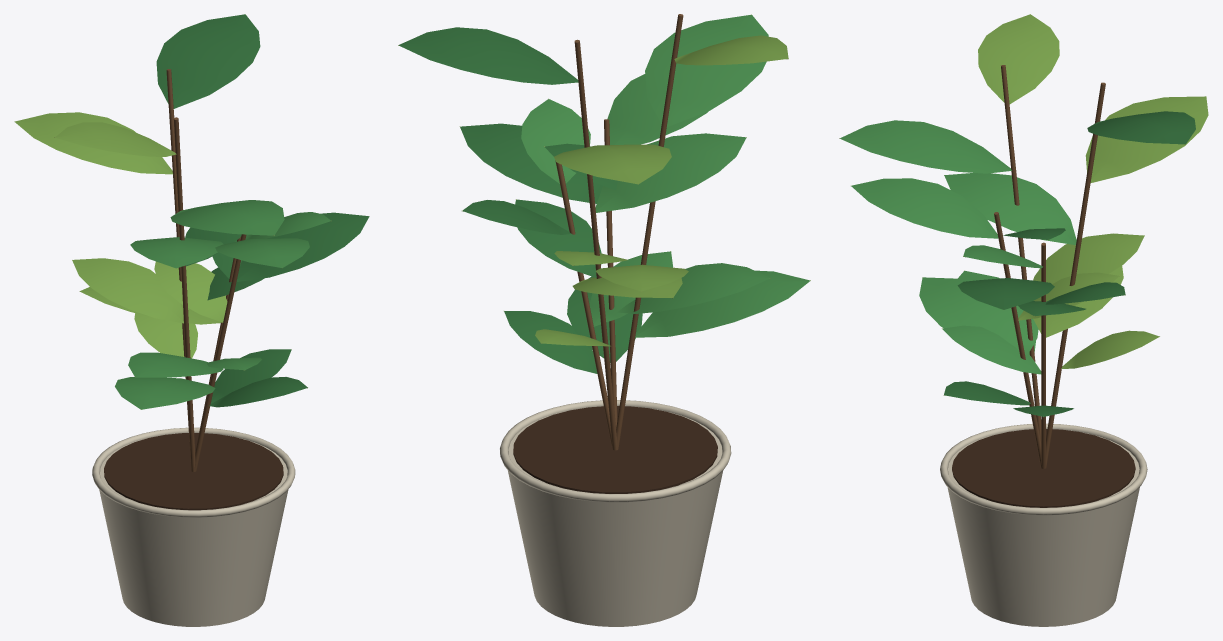
The model's file is library-broadleaf.glb.
3 renders of one model, left to right at view 1: azimuth 30°, elevation 25°; view 2: azimuth 150°, elevation 25°; view 3: azimuth 270°, elevation 25°, orthographic. The views are drawn at different scales.
Parts seen in each view (by area): view 1: part::library-broadleaf/thrown-ceramic-planter-001, part::library-broadleaf/dark-potting-mix-001, part::library-broadleaf/folded-broad-leaf-015, part::library-broadleaf/folded-broad-leaf-007, part::library-broadleaf/folded-broad-leaf-014, part::library-broadleaf/planter-rounded-lip-001, part::library-broadleaf/folded-broad-leaf-009, part::library-broadleaf/folded-broad-leaf-019, part::library-broadleaf/folded-broad-leaf-010, part::library-broadleaf/folded-broad-leaf-006, part::library-broadleaf/folded-broad-leaf-018, part::library-broadleaf/folded-broad-leaf-020 (+13 smaller); view 2: part::library-broadleaf/thrown-ceramic-planter-001, part::library-broadleaf/dark-potting-mix-001, part::library-broadleaf/folded-broad-leaf-009, part::library-broadleaf/folded-broad-leaf-015, part::library-broadleaf/folded-broad-leaf-013, part::library-broadleaf/folded-broad-leaf-006, part::library-broadleaf/planter-rounded-lip-001, part::library-broadleaf/folded-broad-leaf-019, part::library-broadleaf/folded-broad-leaf-014, part::library-broadleaf/folded-broad-leaf-017, part::library-broadleaf/folded-broad-leaf-005, part::library-broadleaf/folded-broad-leaf-020 (+15 smaller); view 3: part::library-broadleaf/thrown-ceramic-planter-001, part::library-broadleaf/dark-potting-mix-001, part::library-broadleaf/folded-broad-leaf-009, part::library-broadleaf/folded-broad-leaf-010, part::library-broadleaf/folded-broad-leaf-020, part::library-broadleaf/folded-broad-leaf-013, part::library-broadleaf/folded-broad-leaf-014, part::library-broadleaf/planter-rounded-lip-001, part::library-broadleaf/folded-broad-leaf-007, part::library-broadleaf/folded-broad-leaf-017, part::library-broadleaf/folded-broad-leaf-015, part::library-broadleaf/folded-broad-leaf-002 (+13 smaller).
Part boxes in pixels (<box>): part::library-broadleaf/thrown-ceramic-planter-001: <box>99,433,288,626</box>; part::library-broadleaf/dark-potting-mix-001: <box>104,433,283,510</box>; part::library-broadleaf/folded-broad-leaf-015: <box>156,14,260,108</box>; part::library-broadleaf/folded-broad-leaf-007: <box>72,258,183,323</box>; part::library-broadleaf/folded-broad-leaf-014: <box>15,112,172,174</box>; part::library-broadleaf/planter-rounded-lip-001: <box>92,427,295,517</box>; part::library-broadleaf/folded-broad-leaf-009: <box>170,200,284,235</box>; part::library-broadleaf/folded-broad-leaf-019: <box>236,212,369,281</box>; part::library-broadleaf/folded-broad-leaf-010: <box>55,122,176,156</box>; part::library-broadleaf/folded-broad-leaf-006: <box>115,377,215,409</box>; part::library-broadleaf/folded-broad-leaf-018: <box>154,261,227,322</box>; part::library-broadleaf/folded-broad-leaf-020: <box>215,238,309,267</box>; part::library-broadleaf/thrown-ceramic-planter-001: <box>508,407,722,626</box>; part::library-broadleaf/dark-potting-mix-001: <box>513,406,717,493</box>; part::library-broadleaf/folded-broad-leaf-009: <box>645,15,768,126</box>; part::library-broadleaf/folded-broad-leaf-015: <box>399,27,578,84</box>; part::library-broadleaf/folded-broad-leaf-013: <box>595,133,746,212</box>; part::library-broadleaf/folded-broad-leaf-006: <box>635,270,809,337</box>; part::library-broadleaf/planter-rounded-lip-001: <box>500,400,731,502</box>; part::library-broadleaf/folded-broad-leaf-019: <box>460,123,602,203</box>; part::library-broadleaf/folded-broad-leaf-014: <box>554,144,671,184</box>; part::library-broadleaf/folded-broad-leaf-017: <box>617,263,769,313</box>; part::library-broadleaf/folded-broad-leaf-005: <box>521,99,590,183</box>; part::library-broadleaf/folded-broad-leaf-020: <box>607,74,708,144</box>; part::library-broadleaf/thrown-ceramic-planter-001: <box>947,430,1139,626</box>; part::library-broadleaf/dark-potting-mix-001: <box>952,429,1135,507</box>; part::library-broadleaf/folded-broad-leaf-009: <box>840,120,1011,173</box>; part::library-broadleaf/folded-broad-leaf-010: <box>978,14,1059,103</box>; part::library-broadleaf/folded-broad-leaf-020: <box>851,178,998,238</box>; part::library-broadleaf/folded-broad-leaf-013: <box>944,173,1076,245</box>; part::library-broadleaf/folded-broad-leaf-014: <box>1085,96,1208,182</box>; part::library-broadleaf/planter-rounded-lip-001: <box>940,423,1147,515</box>; part::library-broadleaf/folded-broad-leaf-007: <box>1033,233,1144,284</box>; part::library-broadleaf/folded-broad-leaf-017: <box>948,271,1038,356</box>; part::library-broadleaf/folded-broad-leaf-015: <box>1087,111,1195,144</box>; part::library-broadleaf/folded-broad-leaf-002: <box>942,325,1041,374</box>.
Bounding box in the file's own units: 0.8193 × 1.31 × 0.8504.
